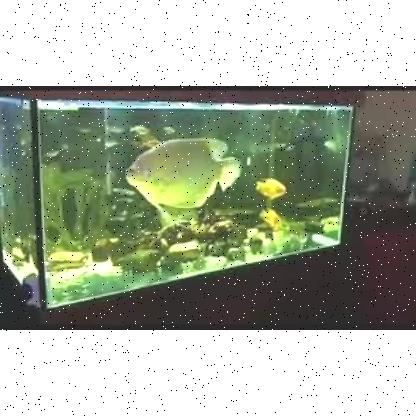gurame: (122, 134, 240, 216)
